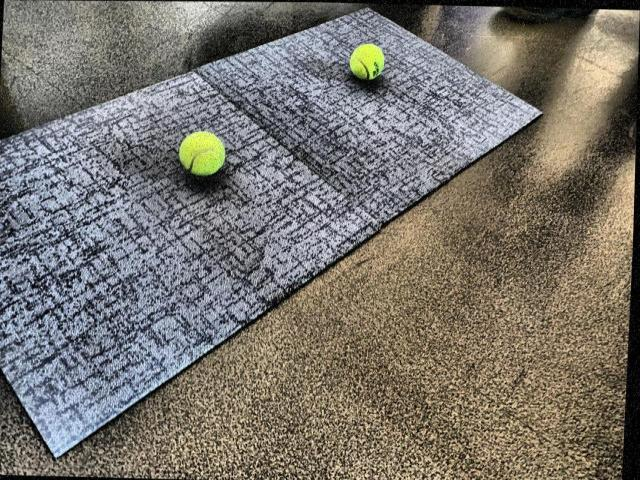tennis-ball: (179, 131, 226, 176), (349, 43, 385, 81)
